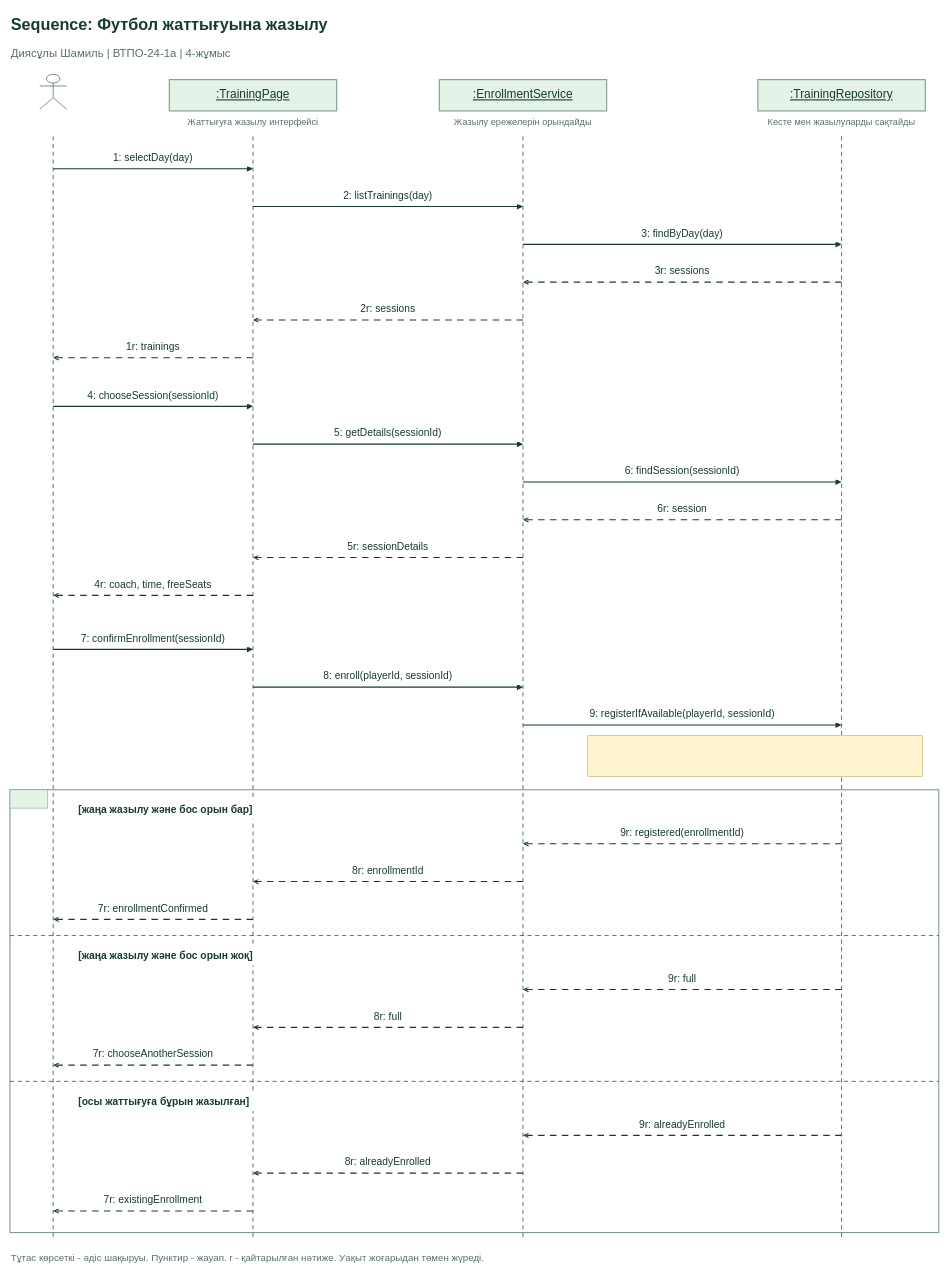
This 950x1277 diagram has some shape labels left out. The centre of each missing label's shape, as x and y in pixels:
"alt" goes at pixel 28 798.
"Спортшы" goes at pixel 53 91.
"Қайталануды және бос орынды тексеру, содан кейін сақтау - бір транзакцияда." goes at pixel 755 755.
